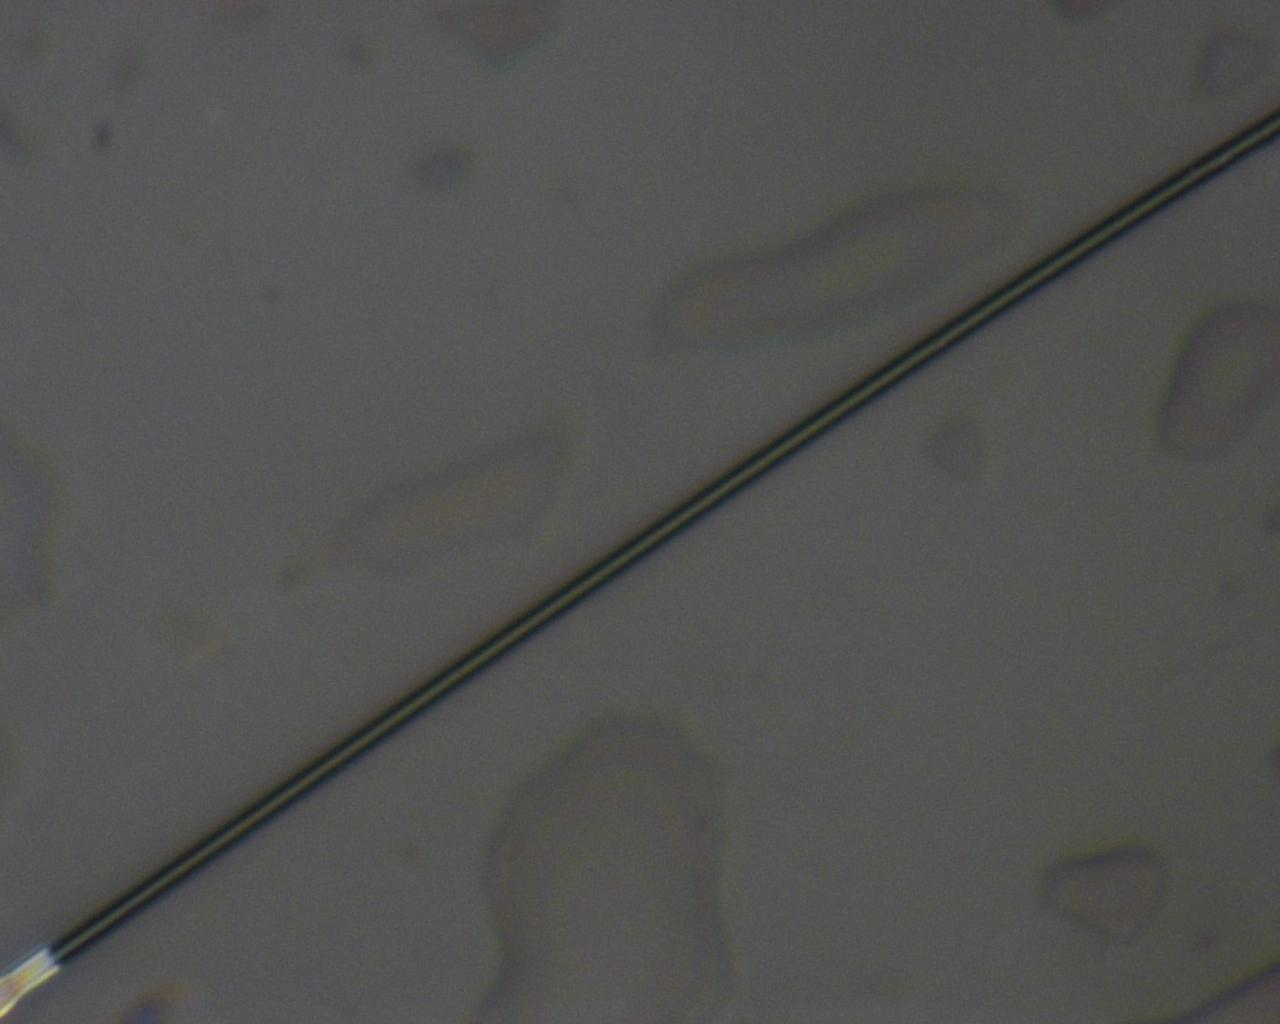fiber: (0, 106, 1280, 1017)
